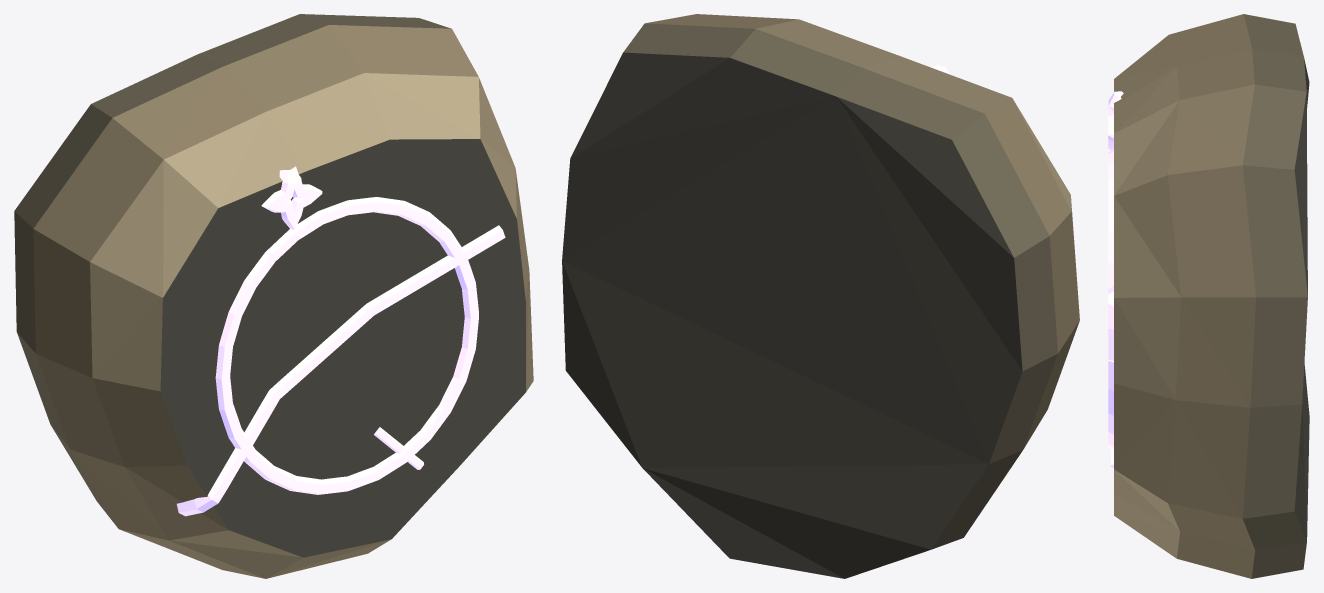
Rendered from FERNSTONE_STAR.hi.glb.
3 renders of one model, left to right at view 1: azimuth 30°, elevation 25°; view 2: azimuth 150°, elevation 25°; view 3: azimuth 270°, elevation 25°, orthographic. The views are drawn at different scales.
Visible parts, largest first — view 1: Body_Mesh; view 2: Body_Mesh; view 3: Body_Mesh.
Part boxes in pixels (<box>): Body_Mesh: <box>14,14,533,578</box>; Body_Mesh: <box>562,14,1079,578</box>; Body_Mesh: <box>1108,14,1309,578</box>.
Size of the model in its own units: 0.2711 by 0.2834 by 0.1048.
Materials: 1 (1 with a texture image).
